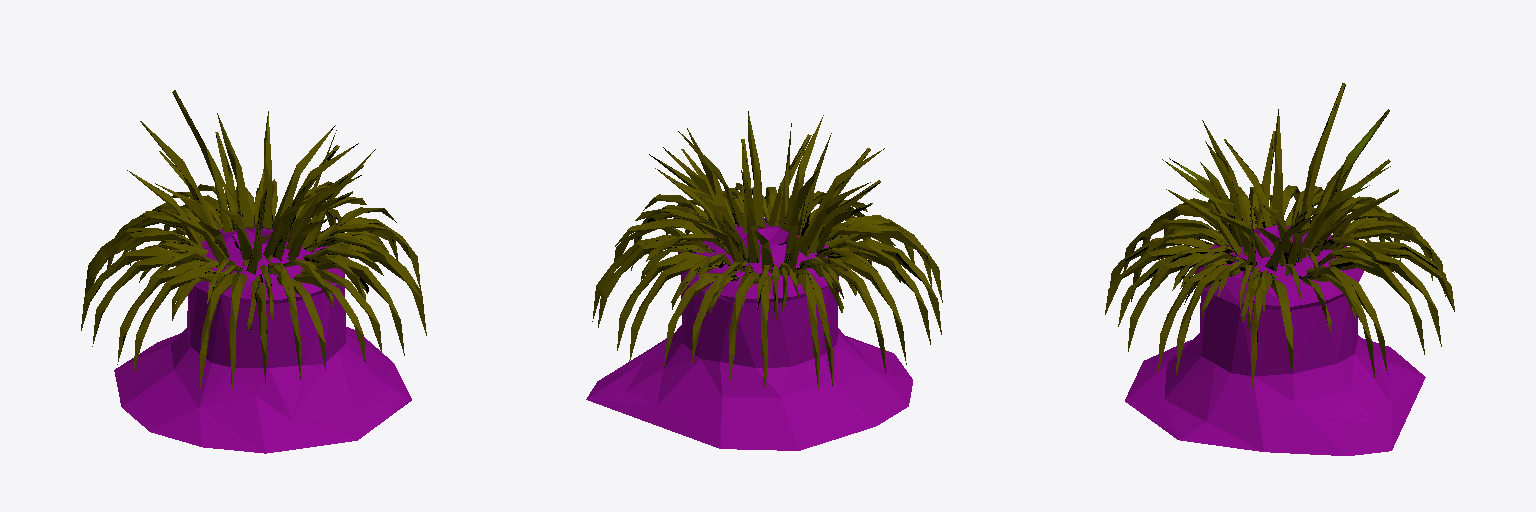
3 views of the same model, side by side, from view 1: azimuth 30°, elevation 25°; view 2: azimuth 150°, elevation 25°; view 3: azimuth 270°, elevation 25° (orthographic).
Parts seen in each view (by area): view 1: Anemone_1; view 2: Anemone_1; view 3: Anemone_1.
Boxes of the visible parts, x1=… form: Anemone_1: x1=81, y1=90, x2=426, y2=453; Anemone_1: x1=586, y1=111, x2=942, y2=450; Anemone_1: x1=1105, y1=83, x2=1454, y2=455.
Bounding box in the file's own units: 41.75 × 35.31 × 42.
1 materials, 1 textured.